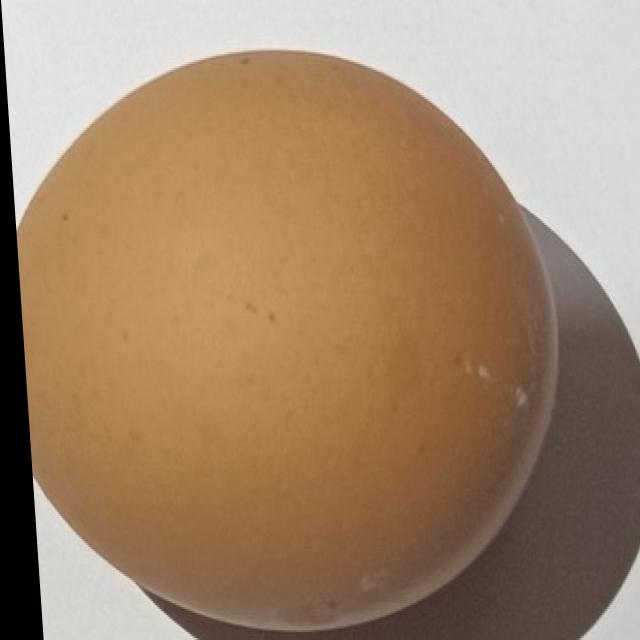fresh: (3, 54, 555, 628)
